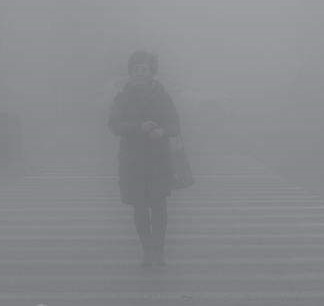person: (107, 49, 189, 271)
